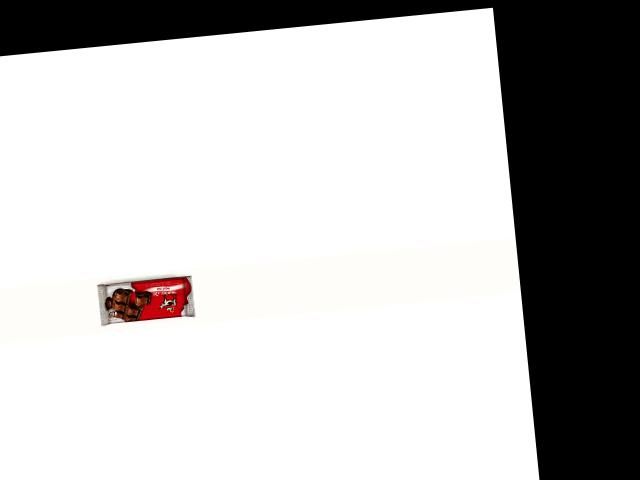chocolate: (94, 267, 197, 329)
